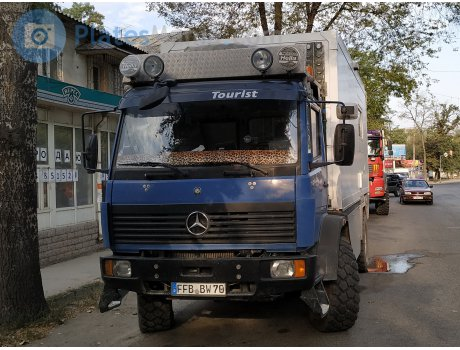License Plates: (173, 281, 224, 295)
